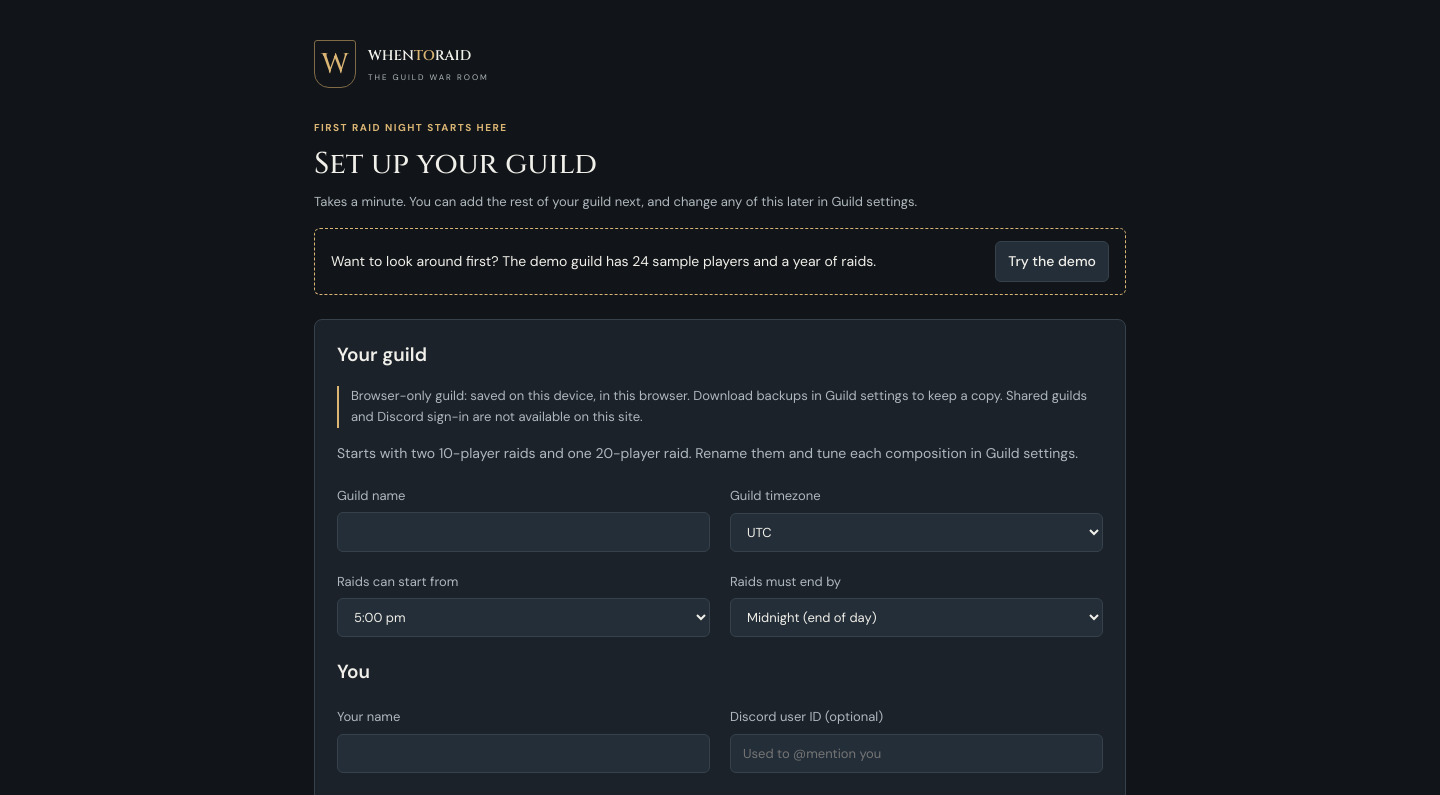
Test case: first-run setup › creating a guild makes you its only member and opens the personal dashboard
Type "Night Shift" into the field labelled "Guild name" at (524, 532), box [337,512,710,552]
Type "Sam" into the field labelled "Your name" at (524, 753), box [337,734,710,773]
(page scrolled)
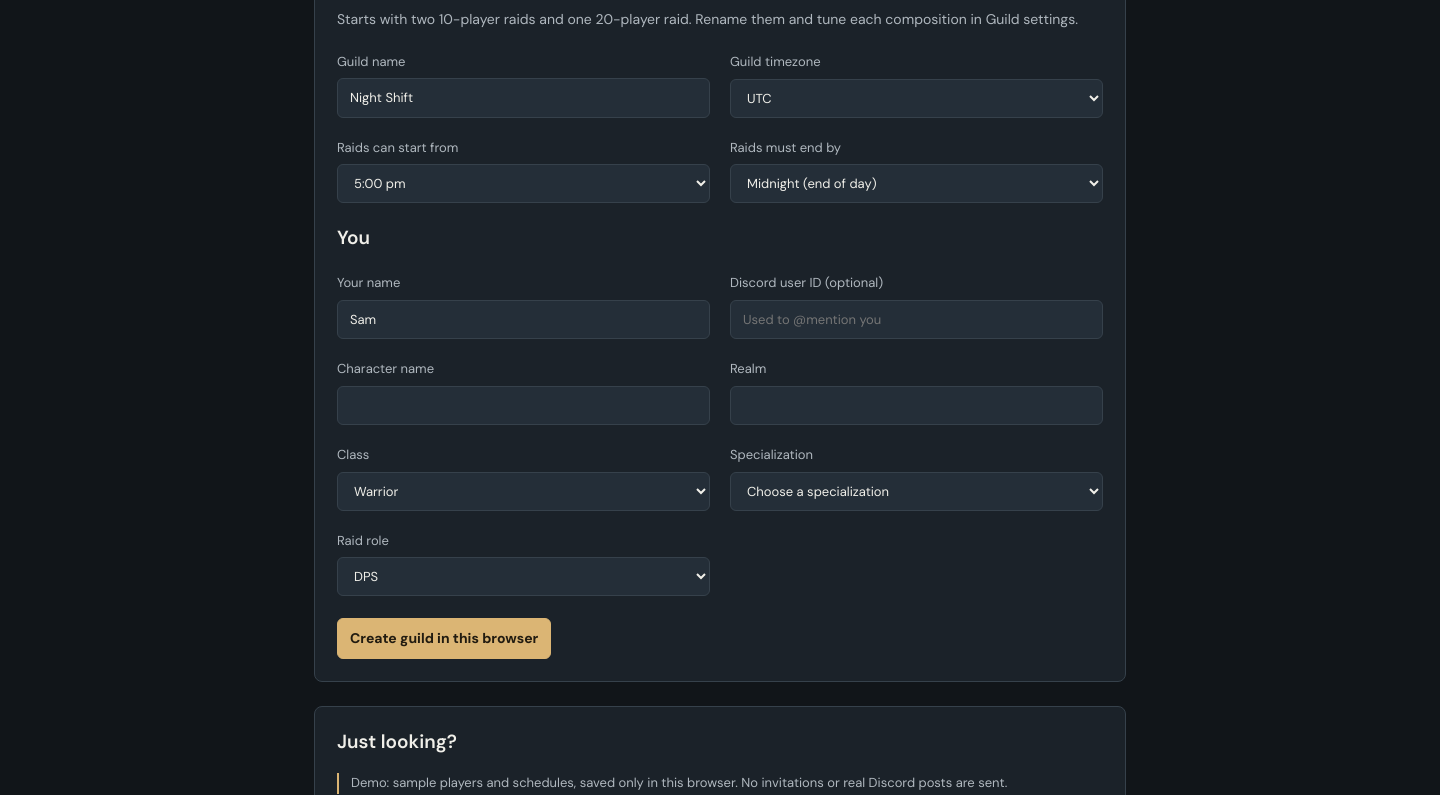
Type "Firstlight" into the field labelled "Character name" at (524, 405), box [337,386,710,425]
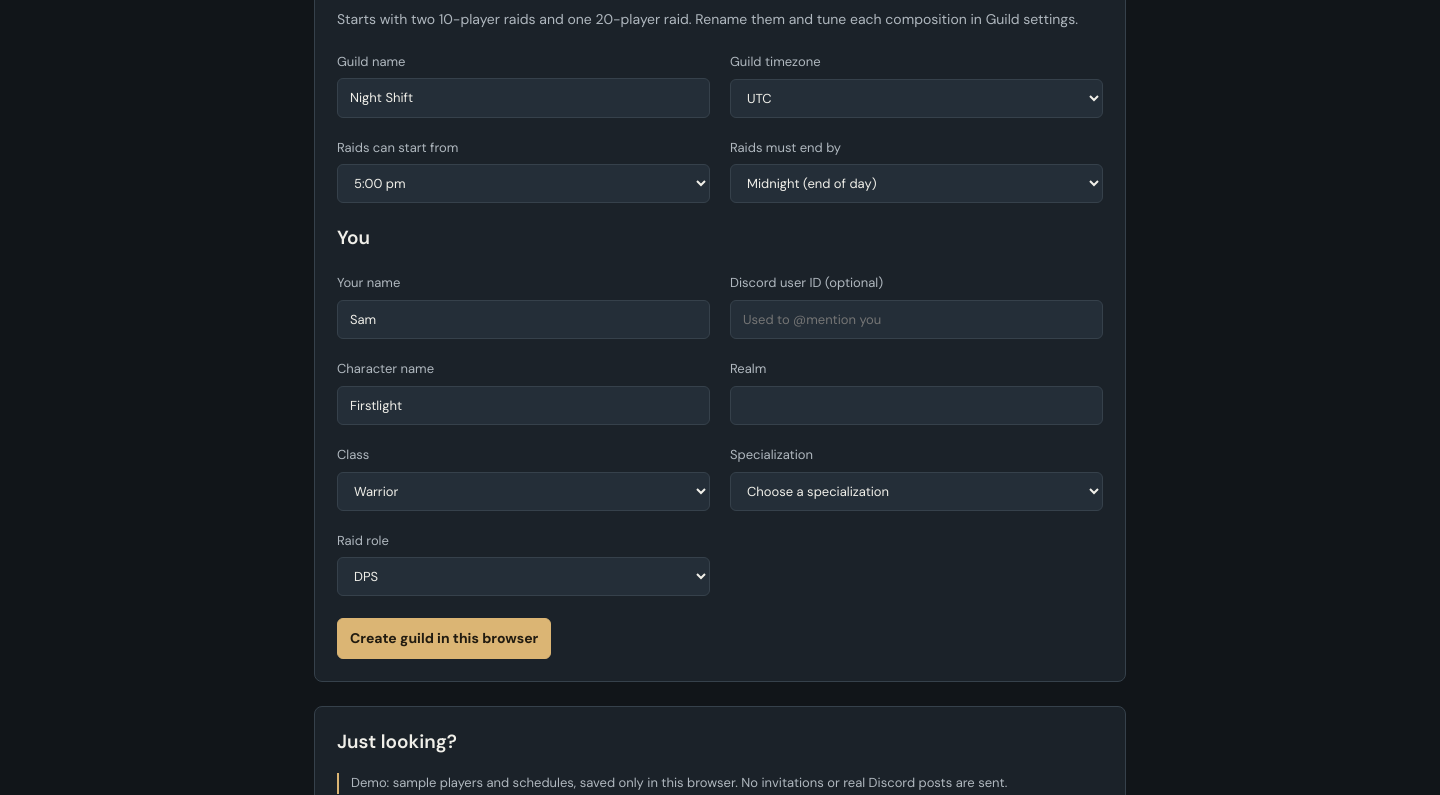
Type "Whitemane" into the field labelled "Realm" at (916, 405), box [730,386,1103,425]
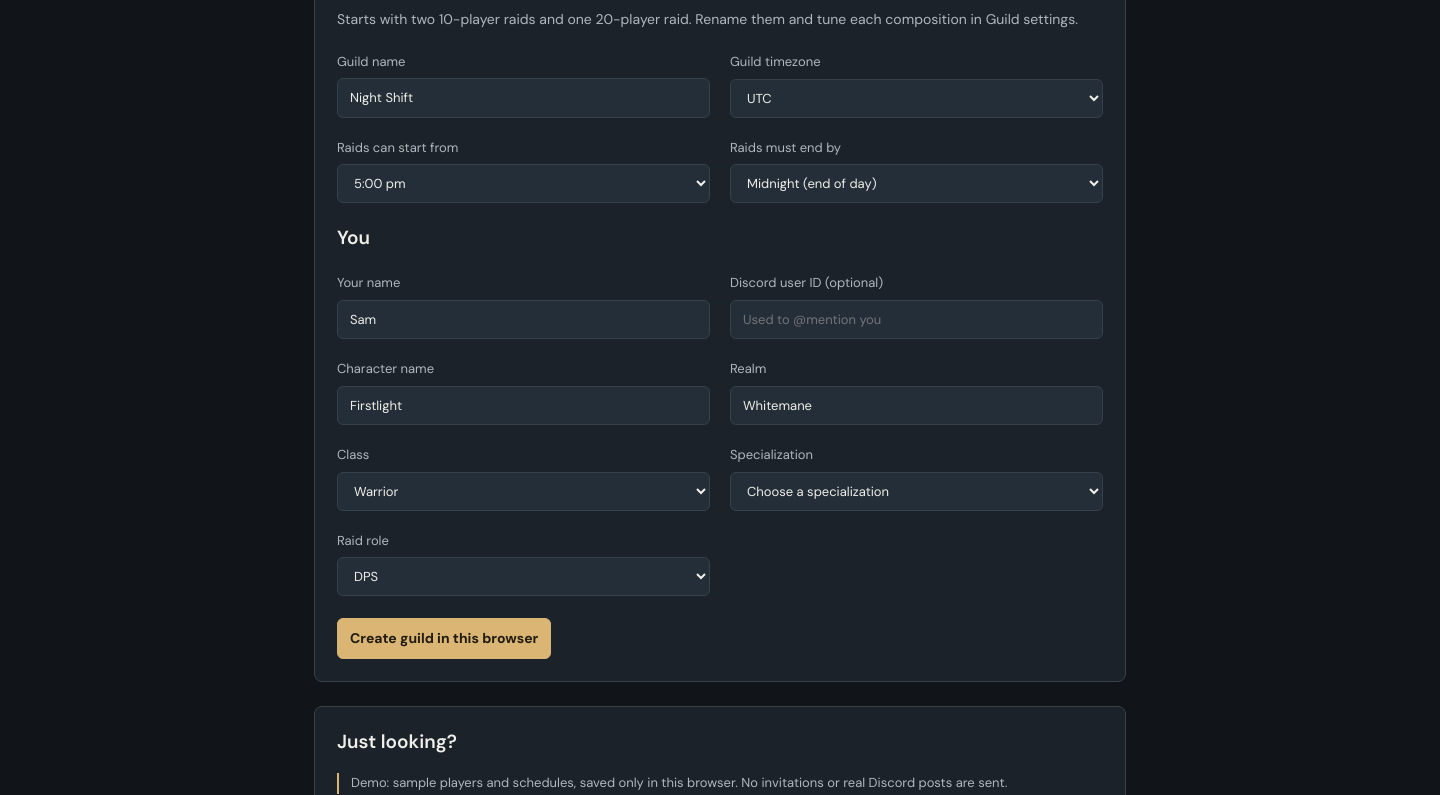
Select "Priest" in the dropdown labelled "Class" at (524, 491), box [337,472,710,511]
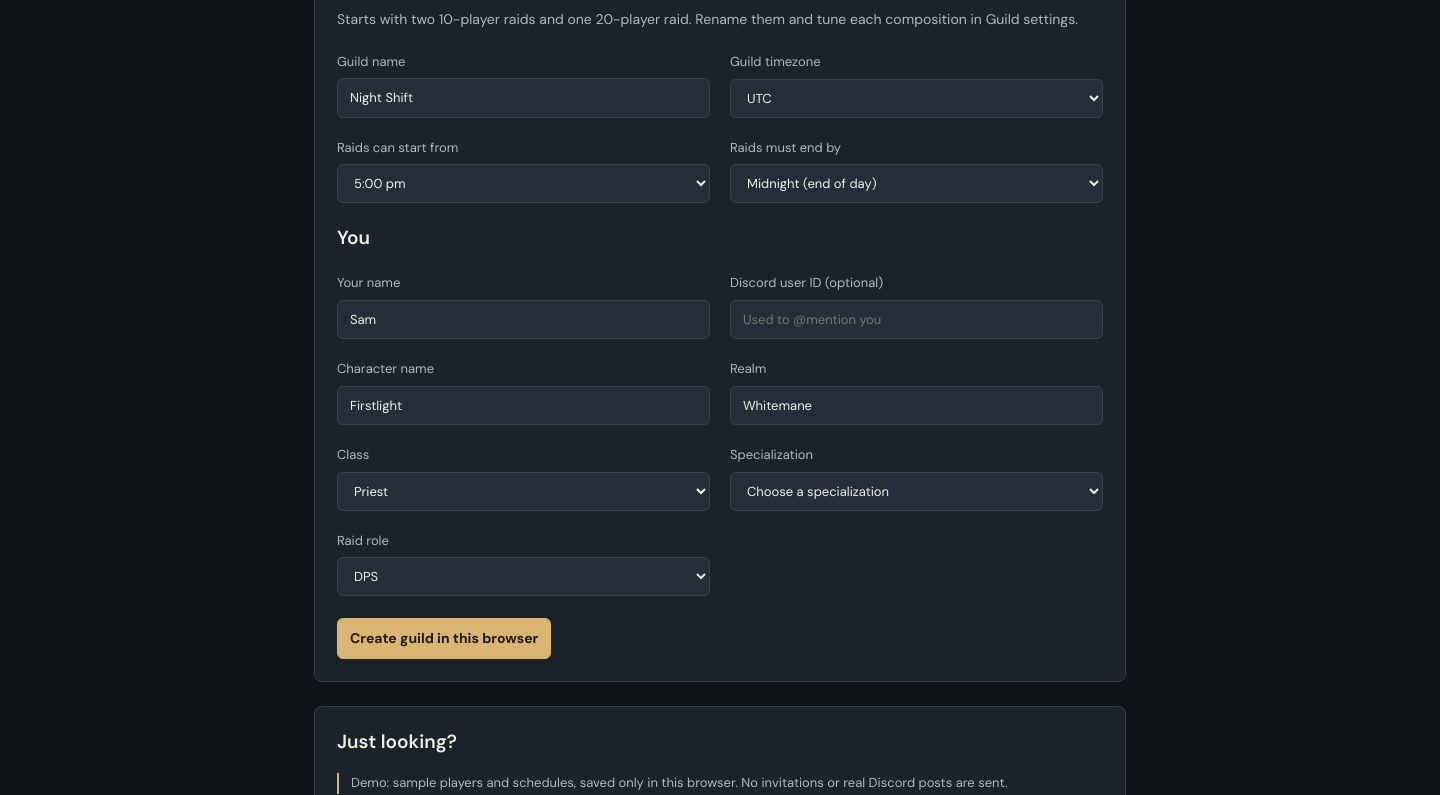
Select "Holy" in the dropdown labelled "Specialization" at (916, 491), box [730,472,1103,511]
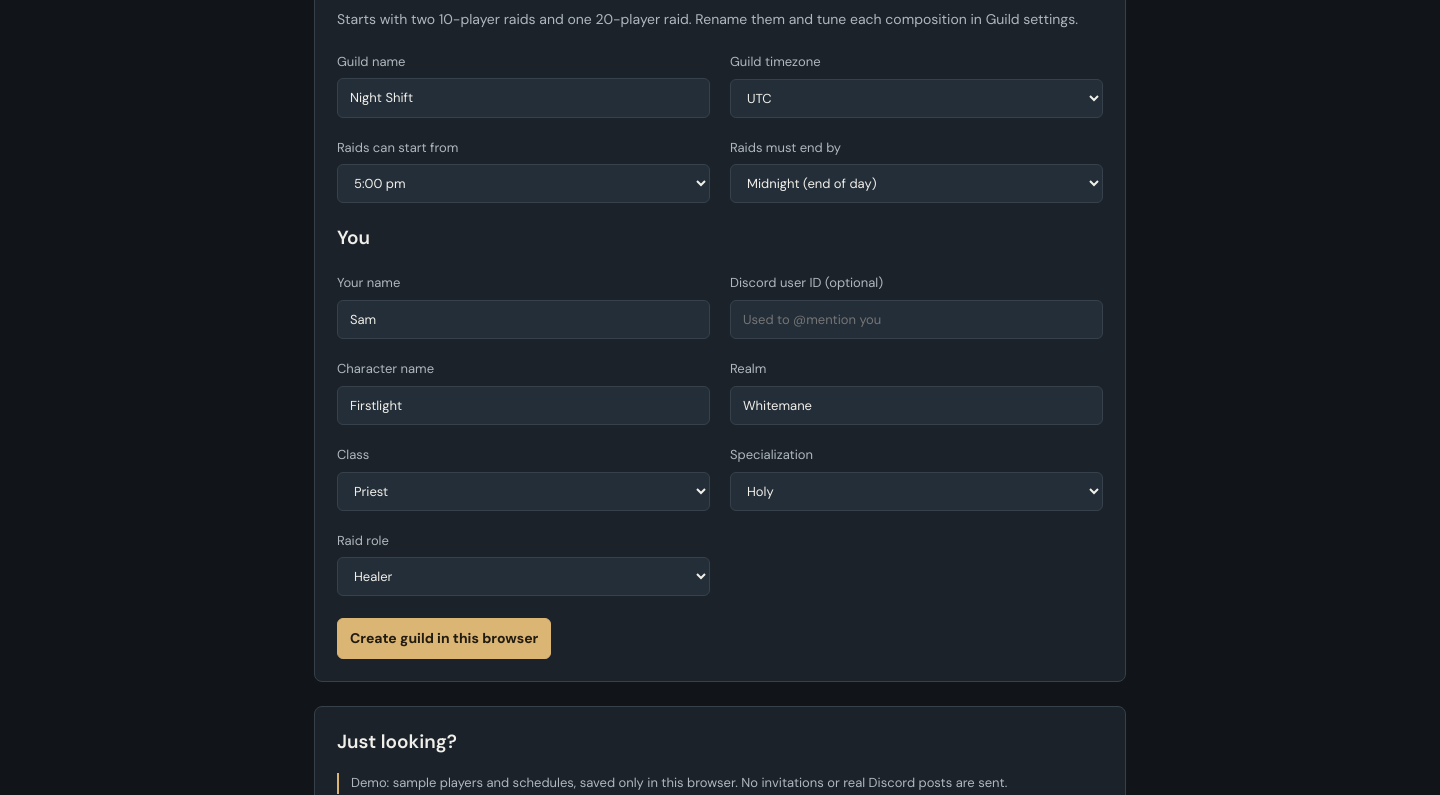
Click the button "Create guild in this browser" at (444, 639), box [337,618,551,659]
(page scrolled)
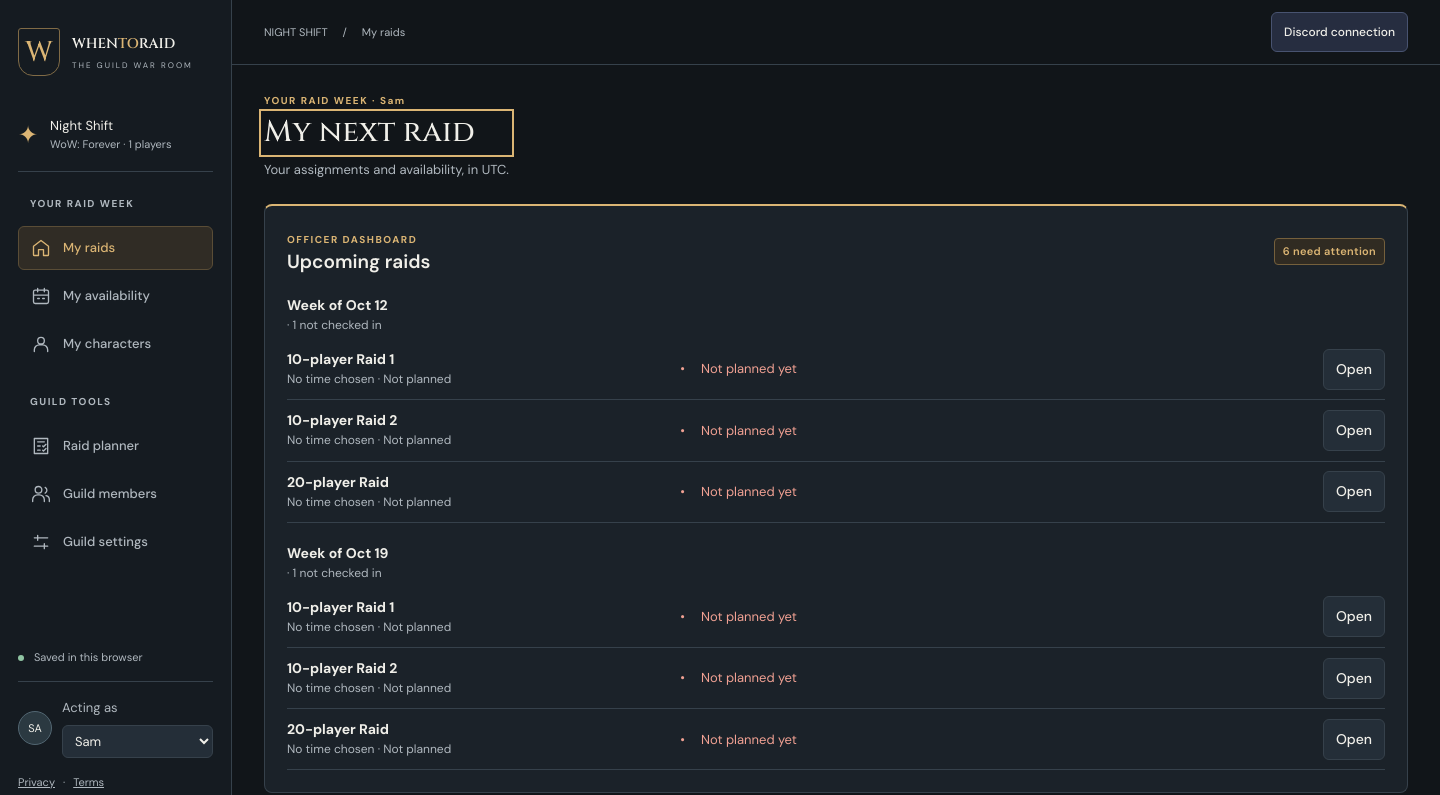
expect the heading "My next raid" is shown: met, box [264,114,509,152]
